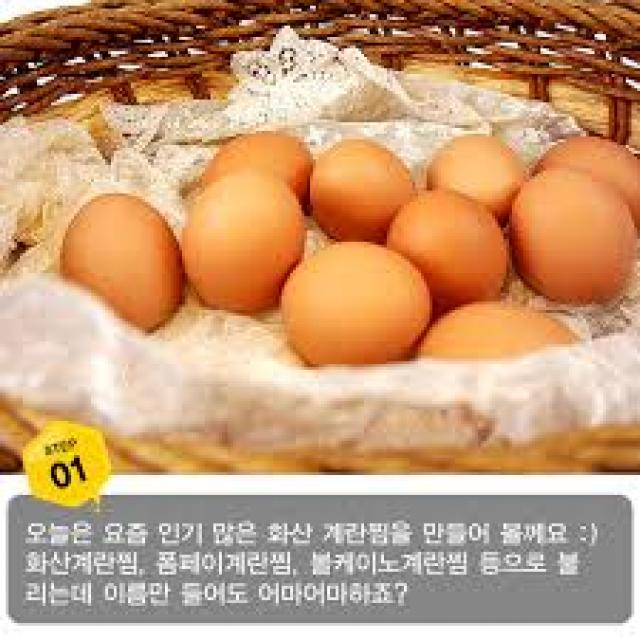Egg: (282, 242, 432, 367), (182, 171, 304, 313), (512, 171, 640, 304)
